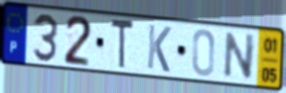0: (191, 27, 216, 78)
2: (63, 14, 95, 69)
3: (30, 11, 60, 64)
K: (145, 23, 173, 75)
N: (221, 30, 257, 81)
T: (110, 17, 136, 72)
